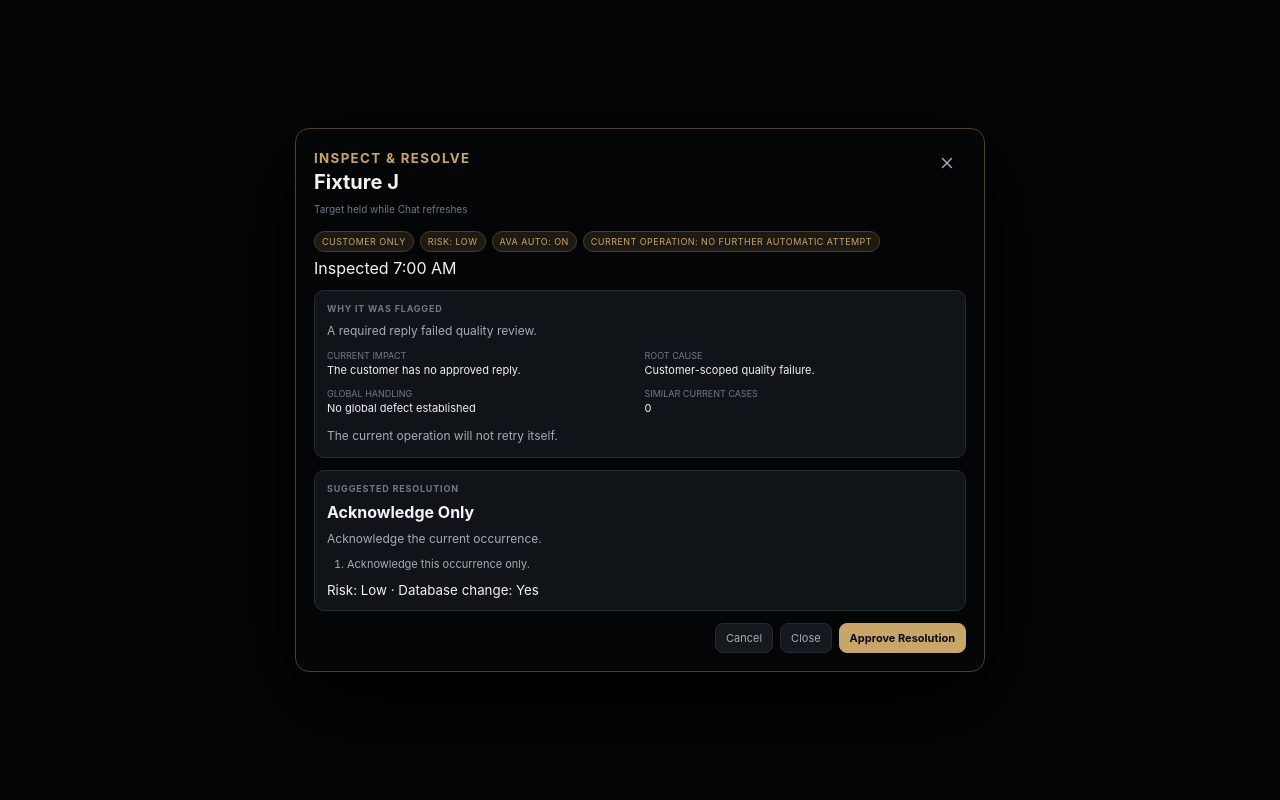
Test case: Inspect & Resolve › shows stale or expired plan errors without optimistic success
Click the button "Approve Resolution" at (902, 638), box [839,623,966,653]
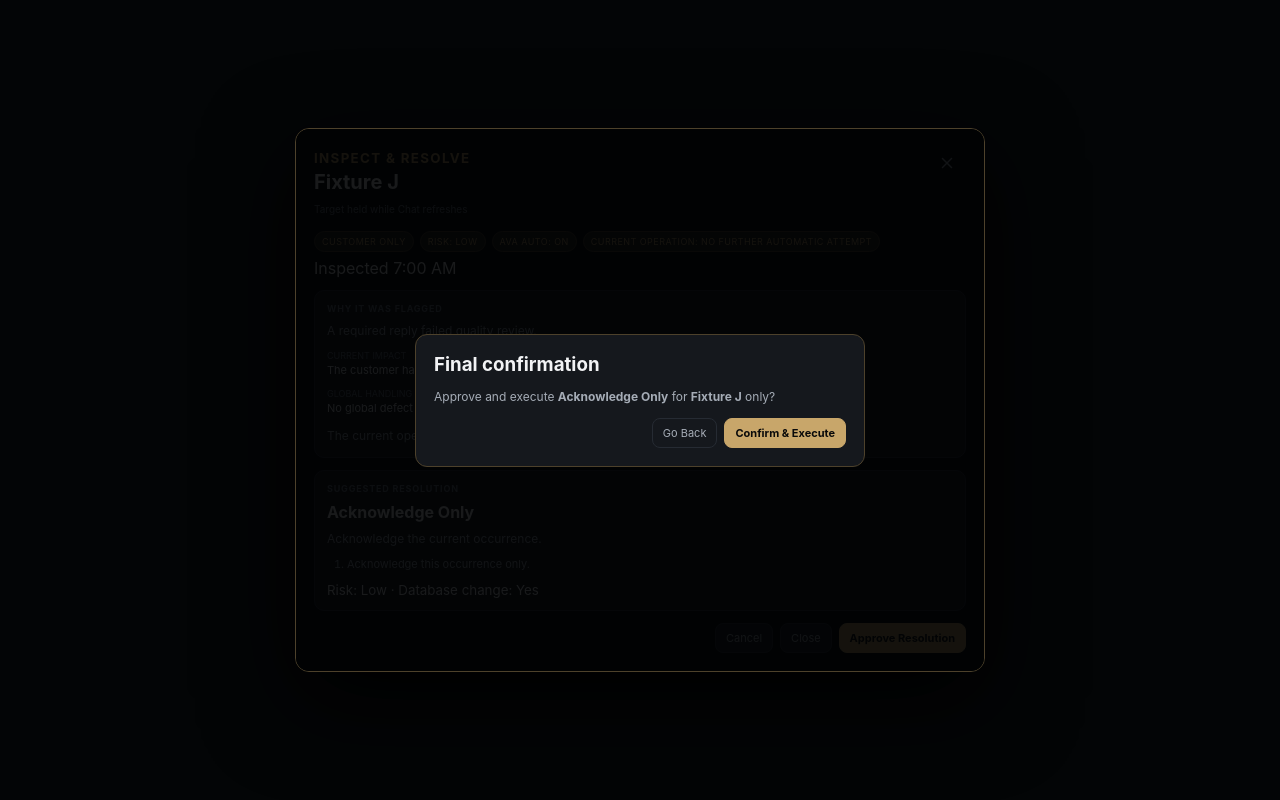
Click the button "Confirm & Execute" at (785, 432), box [724,418,846,448]
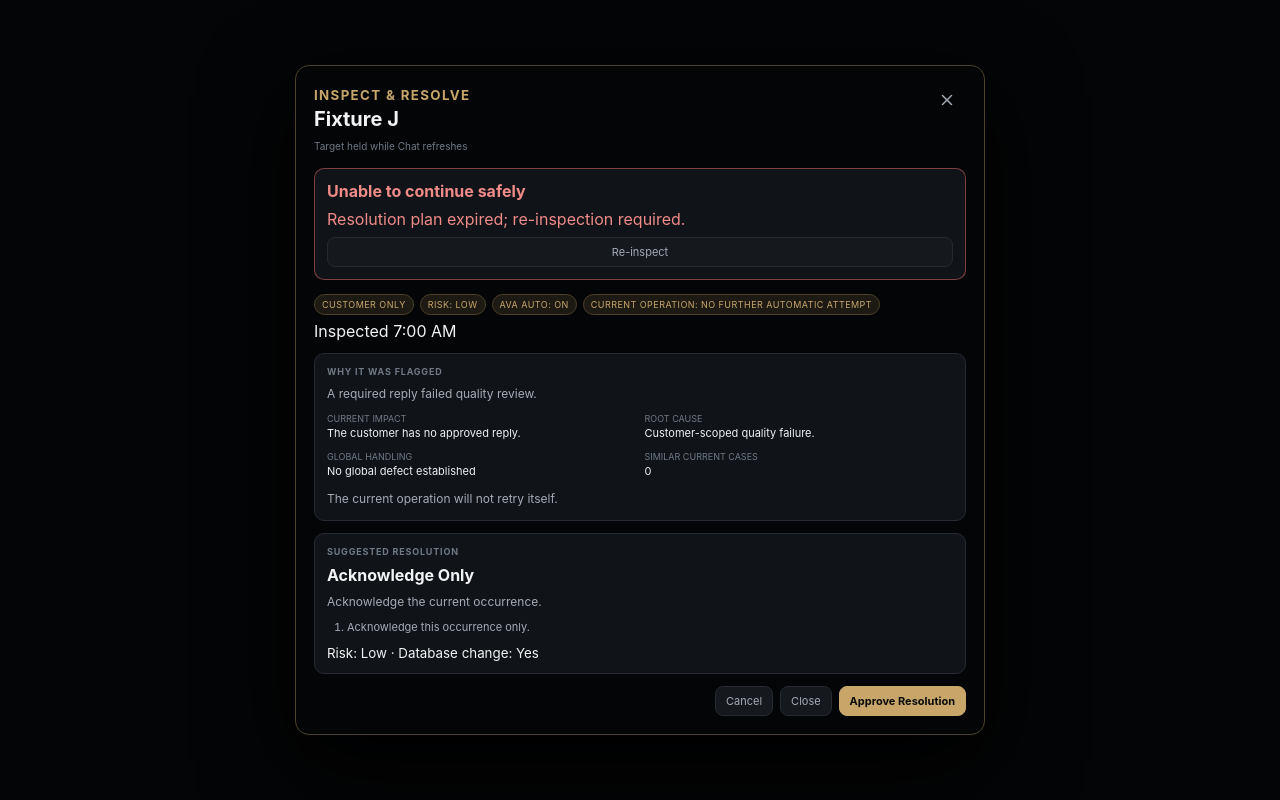
expect the message shows "expired": met, box [327,209,686,229]
expect the button "Re-inspect" is shown: met, box [327,237,953,267]
